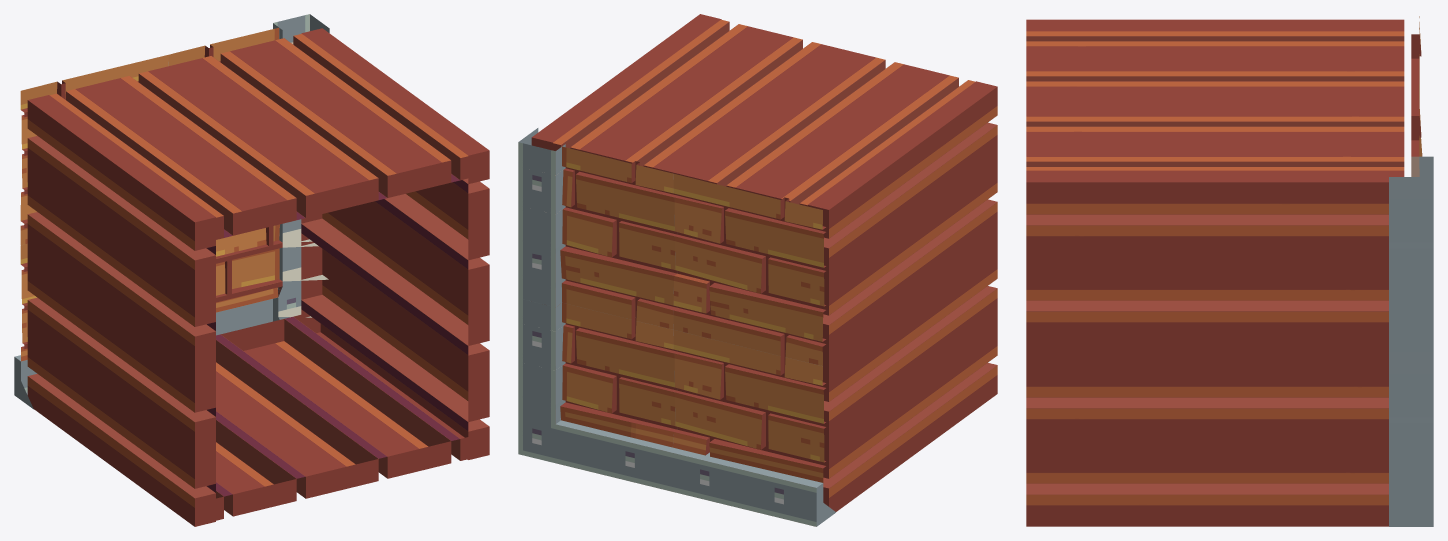
File: CornerBLKayu.fbx
The picture shows the model from 3 angles, left to right: view 1: azimuth 30°, elevation 25°; view 2: azimuth 150°, elevation 25°; view 3: azimuth 270°, elevation 25°; orthographic projection. The views are drawn at different scales.
Visible parts, largest first — view 1: CornerBLKayu; view 2: CornerBLKayu; view 3: CornerBLKayu.
Part boxes in pixels (x1=…): CornerBLKayu: x1=14, y1=14, x2=489, y2=526; CornerBLKayu: x1=518, y1=14, x2=997, y2=526; CornerBLKayu: x1=1026, y1=16, x2=1433, y2=526.
Bounding box in the file's own units: 94.81 × 94.81 × 100.
